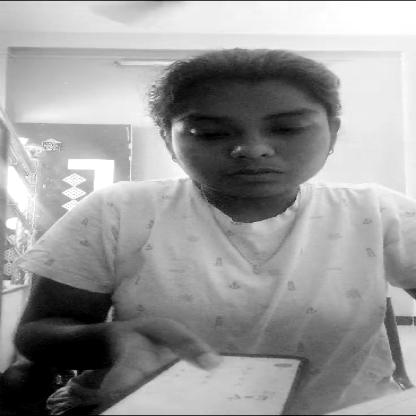Normal: (164, 85, 336, 198)
